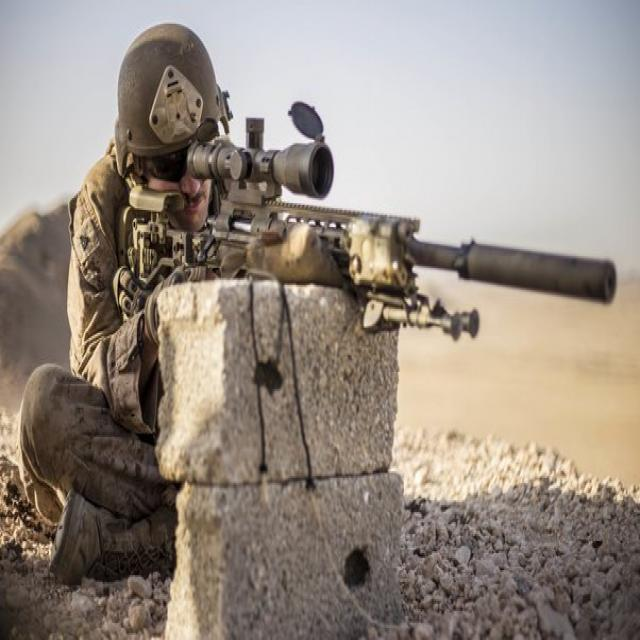rifle: (127, 102, 627, 338)
